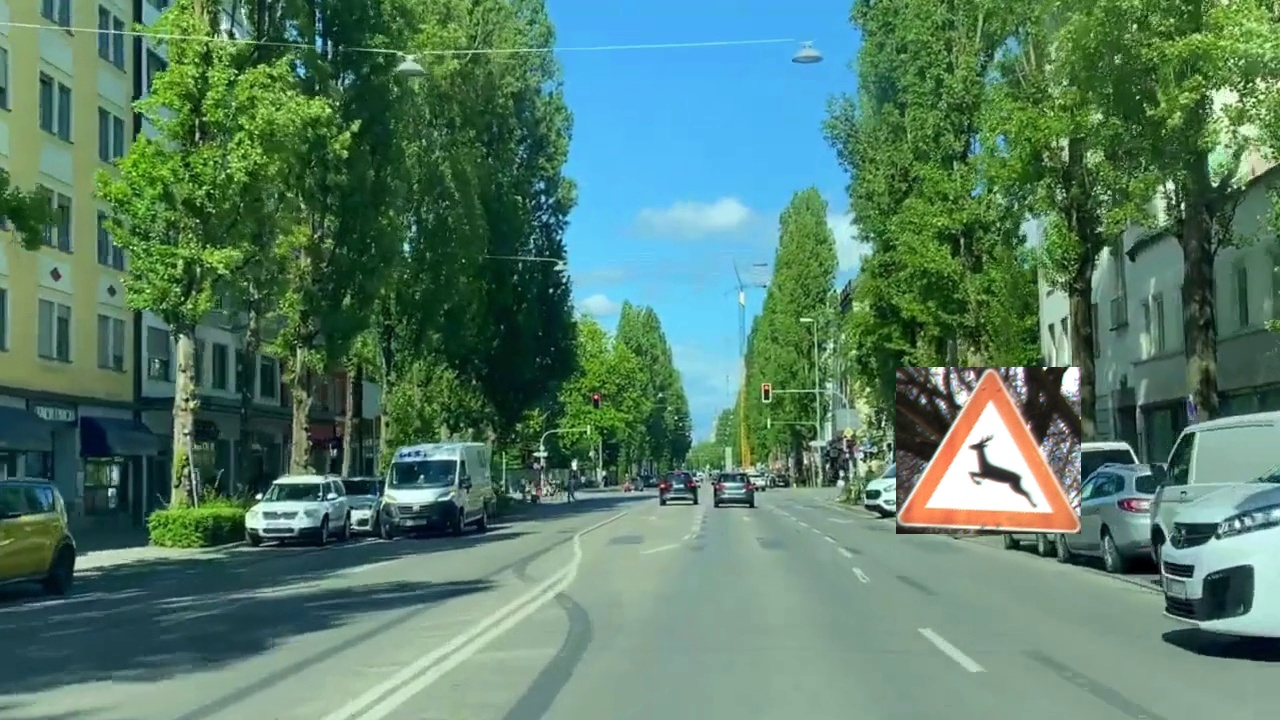Wild animals: (896, 367, 1081, 534)
